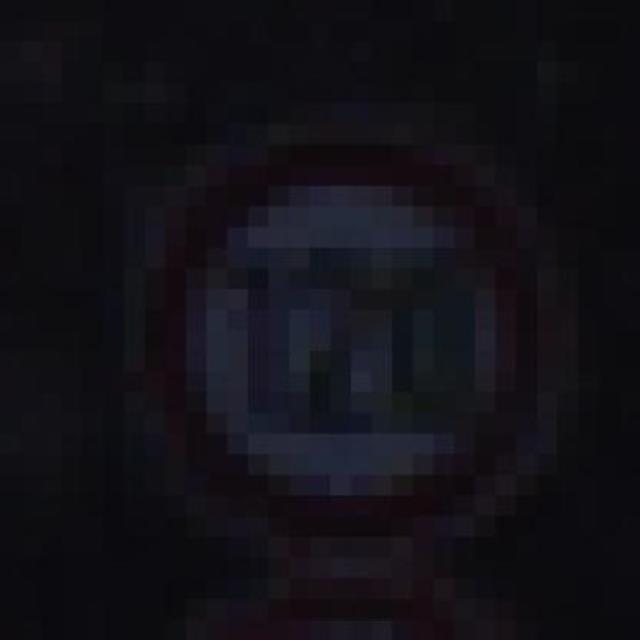forb_speed_over_120: (151, 136, 554, 549)
